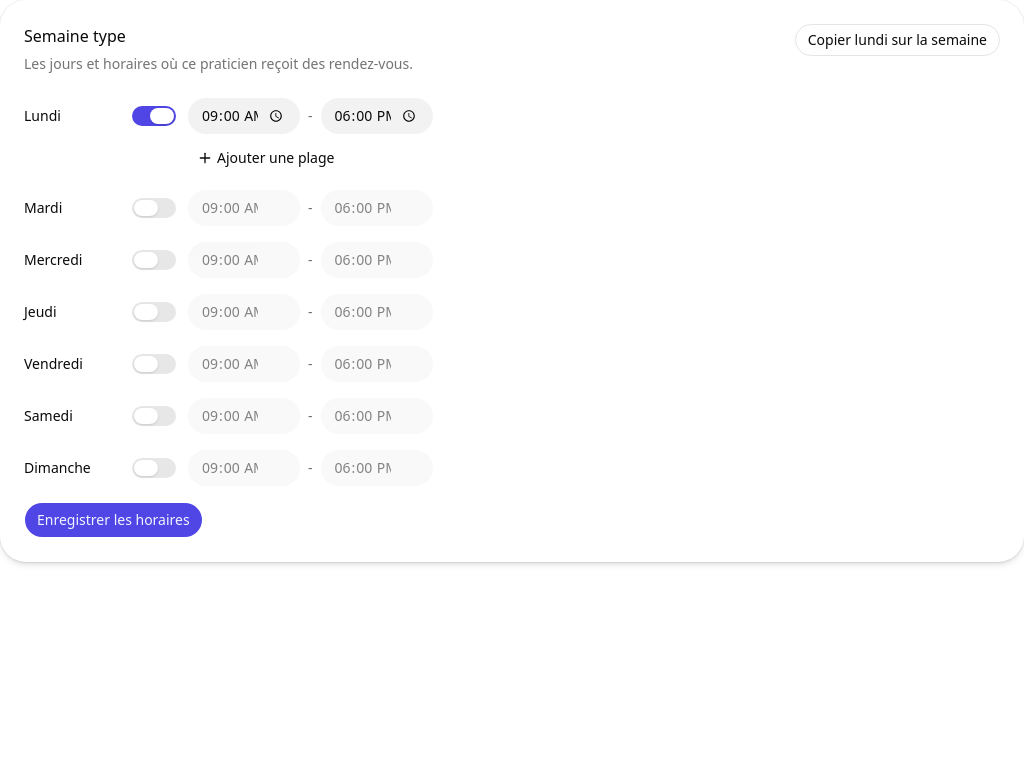
Scenario: WeeklyScheduleForm — validation › refuse une fermeture antérieure à l'ouverture
Step 1. Replace the text in the time field named "Fermeture Lundi" with "08:00" → (376, 116), box x1=320 y1=98 x2=432 y2=134
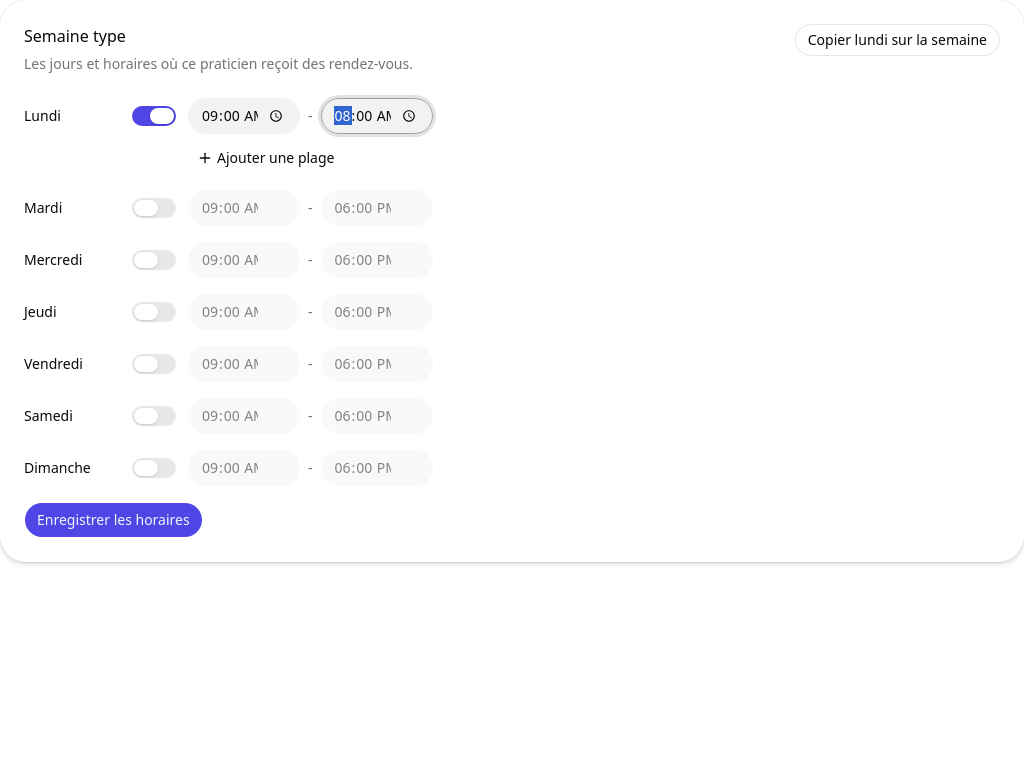
Step 2. Click the button "Enregistrer les horaires" → (113, 520), box x1=24 y1=502 x2=203 y2=538
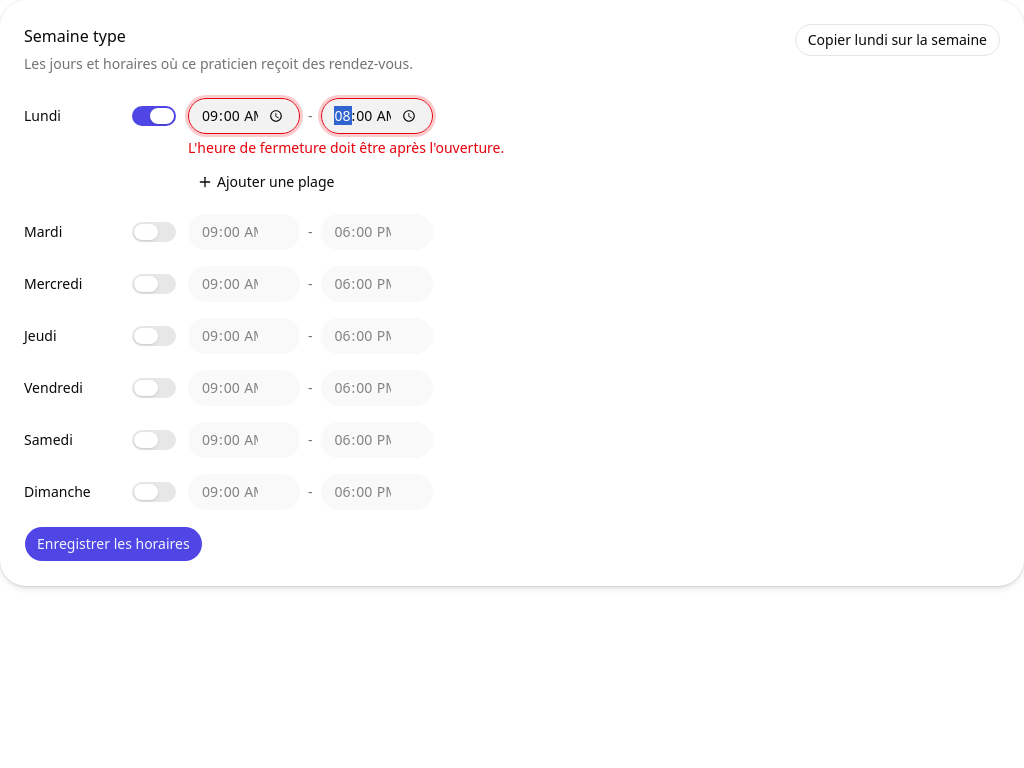
Check: the text "L'heure de fermeture doit être après l'ouverture." is shown, box x1=188 y1=138 x2=504 y2=157
